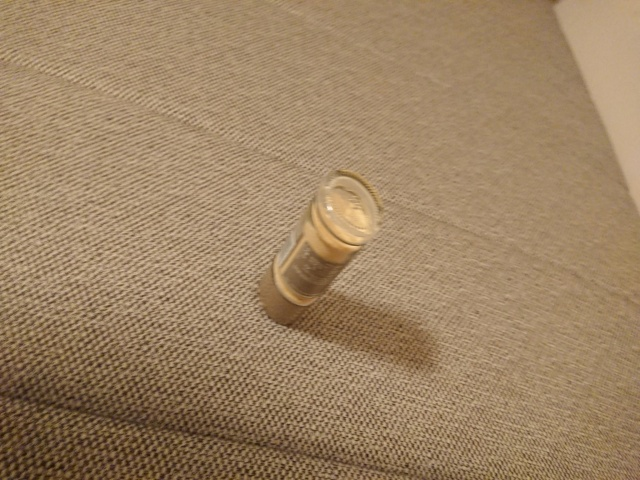Kotanyi Garlic Granules 70g: (258, 167, 385, 329)
